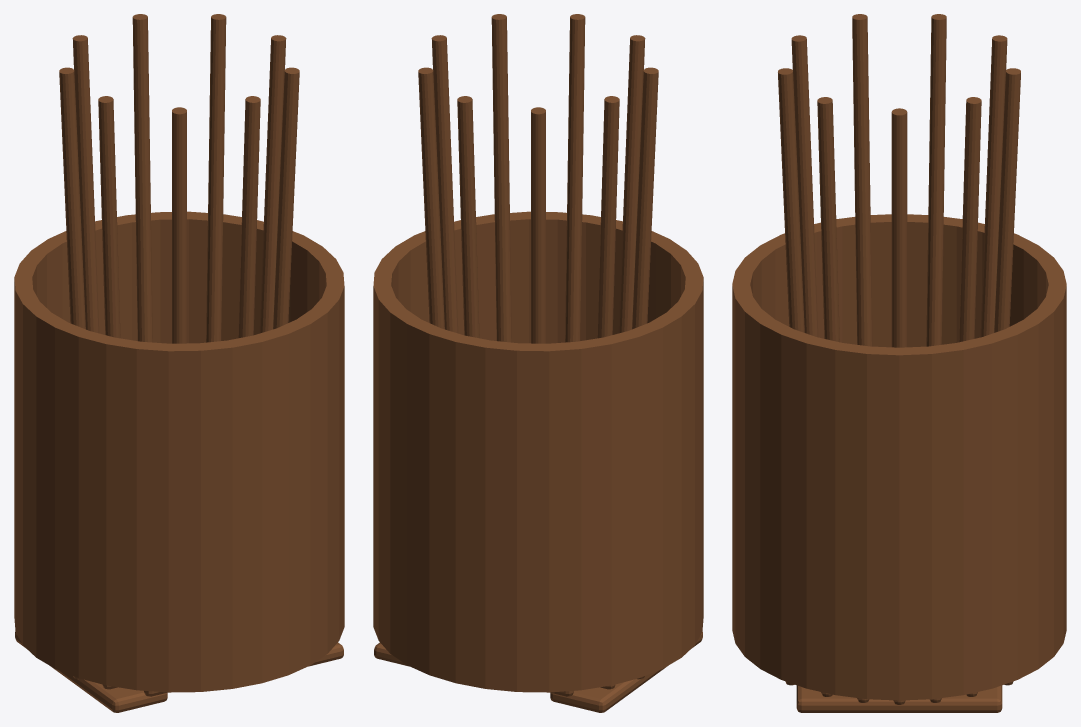
The model's file is chopstick-holder.glb.
The picture shows the model from 3 angles, left to right: view 1: azimuth 30°, elevation 25°; view 2: azimuth 150°, elevation 25°; view 3: azimuth 270°, elevation 25°; orthographic projection.
Visible parts, largest first — view 1: Holder_Wall, Independent_Chopstick.002, Independent_Chopstick.001, Independent_Chopstick.003, Independent_Chopstick, Independent_Chopstick.008, Independent_Chopstick.004, Independent_Chopstick.005, Independent_Chopstick.007, Independent_Chopstick.006, Foot; view 2: Holder_Wall, Independent_Chopstick.007, Independent_Chopstick.008, Independent_Chopstick.006, Independent_Chopstick, Independent_Chopstick.001, Independent_Chopstick.005, Independent_Chopstick.004, Independent_Chopstick.002, Independent_Chopstick.003, Foot; view 3: Holder_Wall, Independent_Chopstick.004, Independent_Chopstick.005, Independent_Chopstick.003, Independent_Chopstick.006, Independent_Chopstick.002, Independent_Chopstick.007, Independent_Chopstick, Independent_Chopstick.001, Independent_Chopstick.008, Foot.001.
Part boxes in pixels (left/top/right/bottom): Holder_Wall: left=14, top=211, right=344, bottom=692; Independent_Chopstick.002: left=132, top=14, right=152, bottom=342; Independent_Chopstick.001: left=206, top=14, right=226, bottom=342; Independent_Chopstick.003: left=72, top=35, right=99, bottom=333; Independent_Chopstick: left=259, top=35, right=286, bottom=333; Independent_Chopstick.008: left=273, top=67, right=299, bottom=329; Independent_Chopstick.004: left=59, top=67, right=85, bottom=329; Independent_Chopstick.005: left=98, top=96, right=120, bottom=338; Independent_Chopstick.007: left=238, top=96, right=260, bottom=338; Independent_Chopstick.006: left=172, top=107, right=186, bottom=343; Foot: left=15, top=632, right=167, bottom=712; Holder_Wall: left=373, top=211, right=703, bottom=692; Independent_Chopstick.007: left=565, top=14, right=585, bottom=342; Independent_Chopstick.008: left=491, top=14, right=511, bottom=342; Independent_Chopstick.006: left=618, top=35, right=645, bottom=333; Independent_Chopstick: left=431, top=35, right=458, bottom=333; Independent_Chopstick.001: left=418, top=67, right=444, bottom=329; Independent_Chopstick.005: left=632, top=67, right=658, bottom=329; Independent_Chopstick.004: left=597, top=96, right=619, bottom=338; Independent_Chopstick.002: left=457, top=96, right=479, bottom=338; Independent_Chopstick.003: left=531, top=107, right=545, bottom=343; Foot: left=550, top=632, right=702, bottom=712; Holder_Wall: left=732, top=214, right=1066, bottom=700; Independent_Chopstick.004: left=926, top=14, right=946, bottom=346; Independent_Chopstick.005: left=852, top=14, right=872, bottom=346; Independent_Chopstick.003: left=980, top=35, right=1007, bottom=337; Independent_Chopstick.006: left=791, top=35, right=818, bottom=337; Independent_Chopstick.002: left=994, top=68, right=1020, bottom=332; Independent_Chopstick.007: left=778, top=68, right=804, bottom=332; Independent_Chopstick: left=891, top=108, right=907, bottom=347; Independent_Chopstick.001: left=959, top=97, right=981, bottom=342; Independent_Chopstick.008: left=817, top=97, right=839, bottom=342; Foot.001: left=796, top=685, right=1002, bottom=712.
Bounding box in the file's own units: 0.13 × 0.2551 × 0.13.
